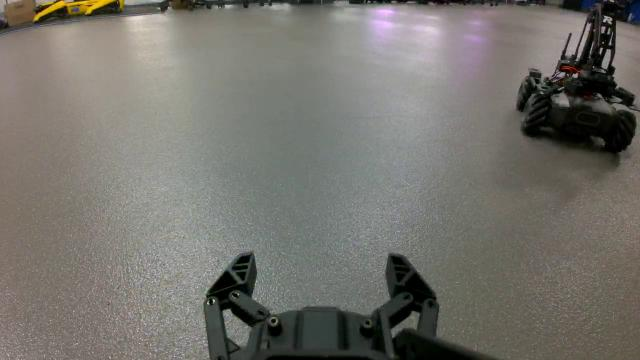robot: (515, 0, 639, 151)
